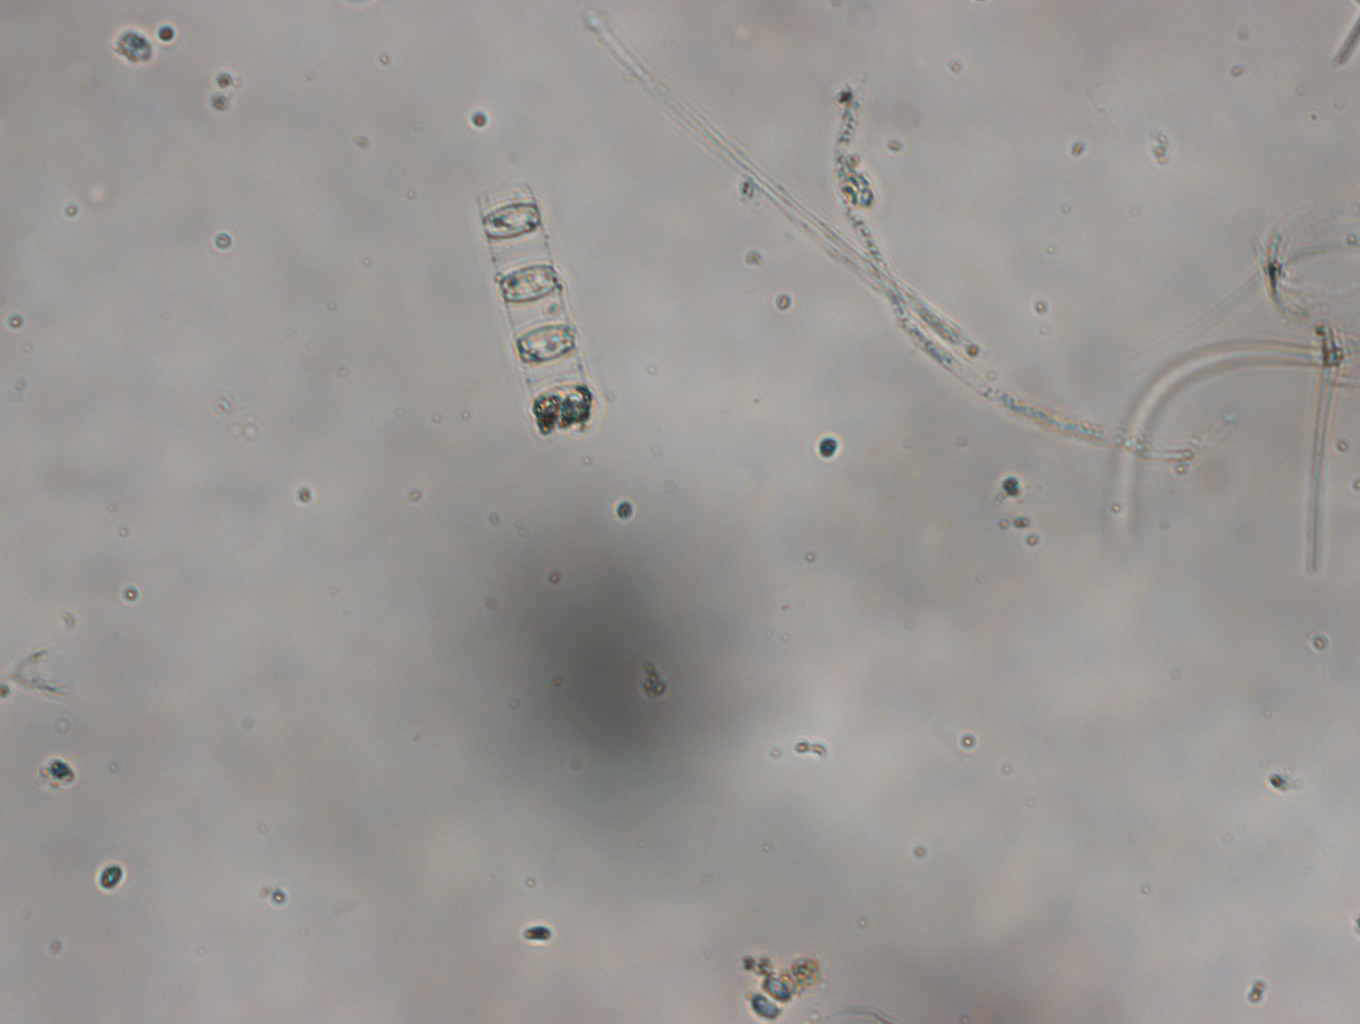skeletonema: (457, 170, 611, 452)
